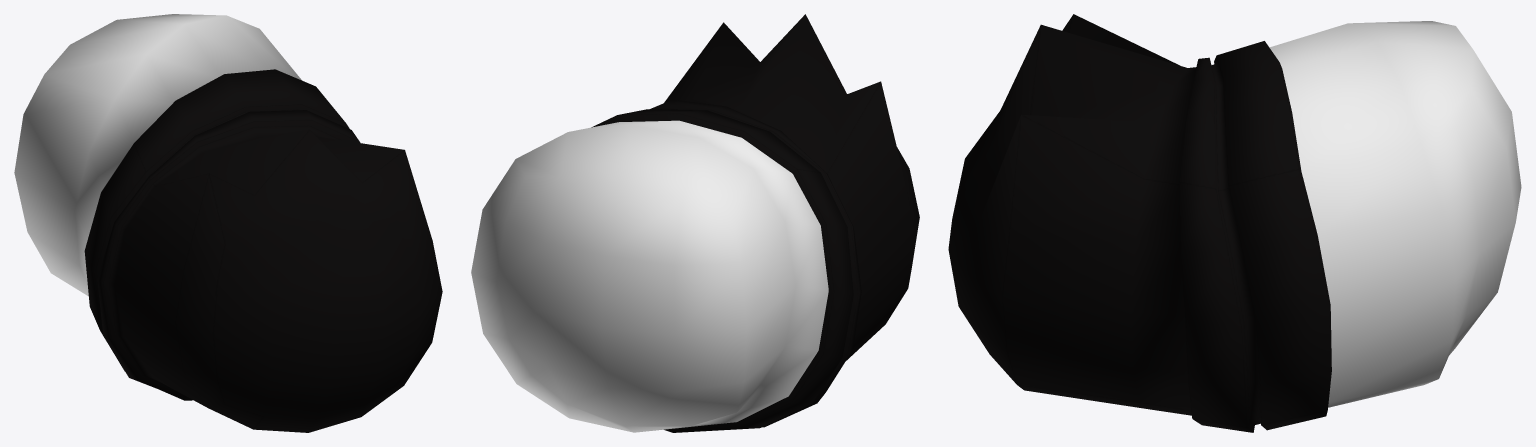
The model's file is toy_monster_legleft.fbx.
The picture shows the model from 3 angles, left to right: view 1: azimuth 30°, elevation 25°; view 2: azimuth 150°, elevation 25°; view 3: azimuth 270°, elevation 25°; orthographic projection. The views are drawn at different scales.
Visible parts, largest first — view 1: leg left; view 2: leg left; view 3: leg left.
Part boxes in pixels (<box>): leg left: <box>14,14,442,432</box>; leg left: <box>471,14,919,432</box>; leg left: <box>948,14,1521,432</box>.
Size of the model in its own units: 186 by 206 by 281.
Materials: 2 (1 with a texture image).
